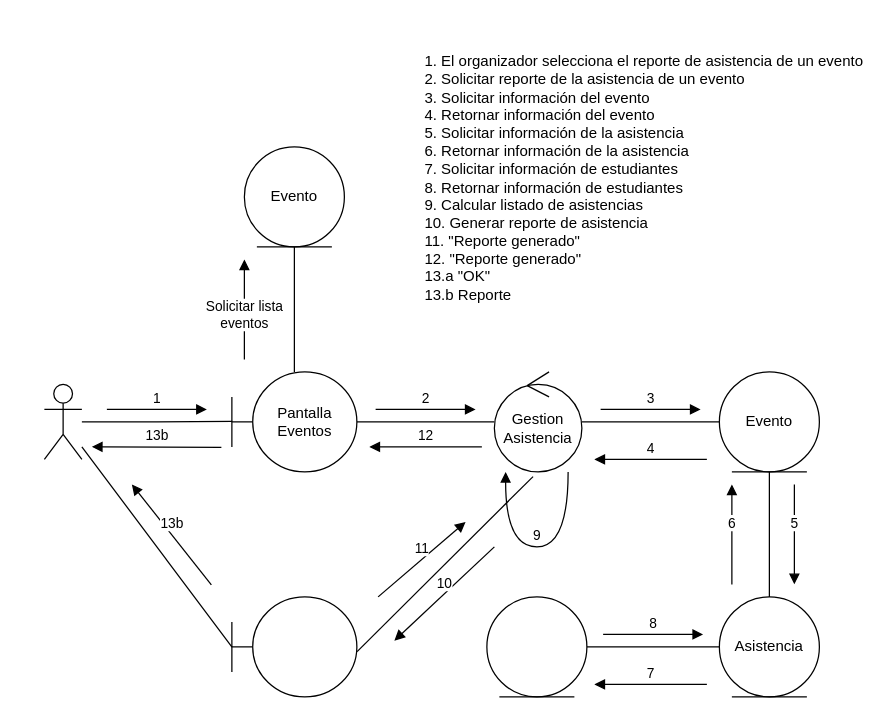
Image size: 891x719. Some labels were removed from this diagram. The shapes that lost their labels are listed below. From the top down, each one's centre as x and y in pixels, then its label:
At [62,421]: "Organizador".
At [294,646]: "Reporte Asistencia".
At [536,646]: "Estudiante".
